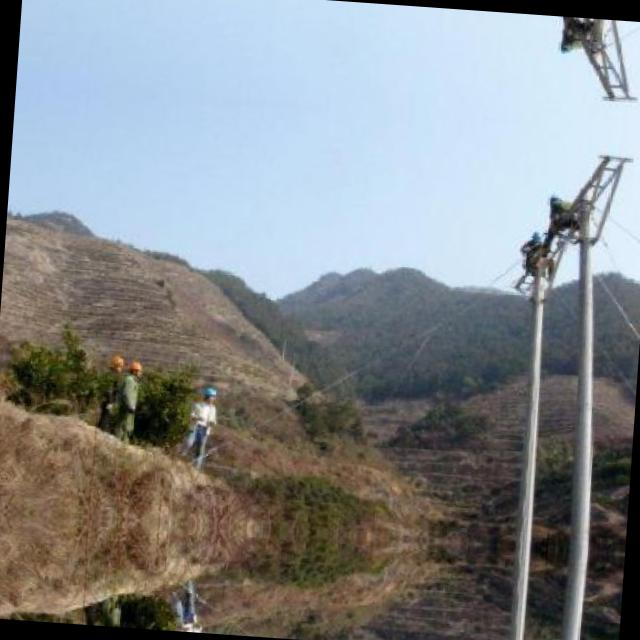helmet: (108, 348, 125, 372), (200, 382, 218, 403), (528, 228, 546, 245), (129, 360, 143, 378)
